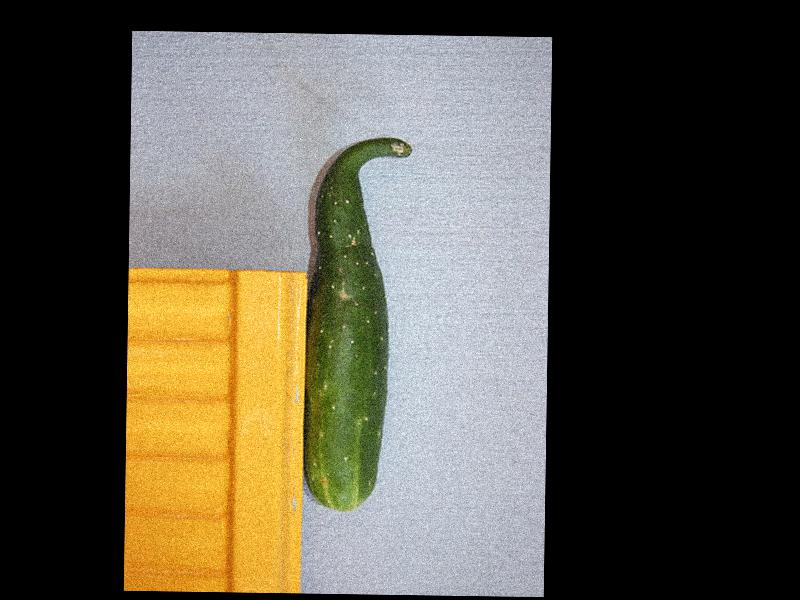Cucumber: (302, 135, 412, 509)
